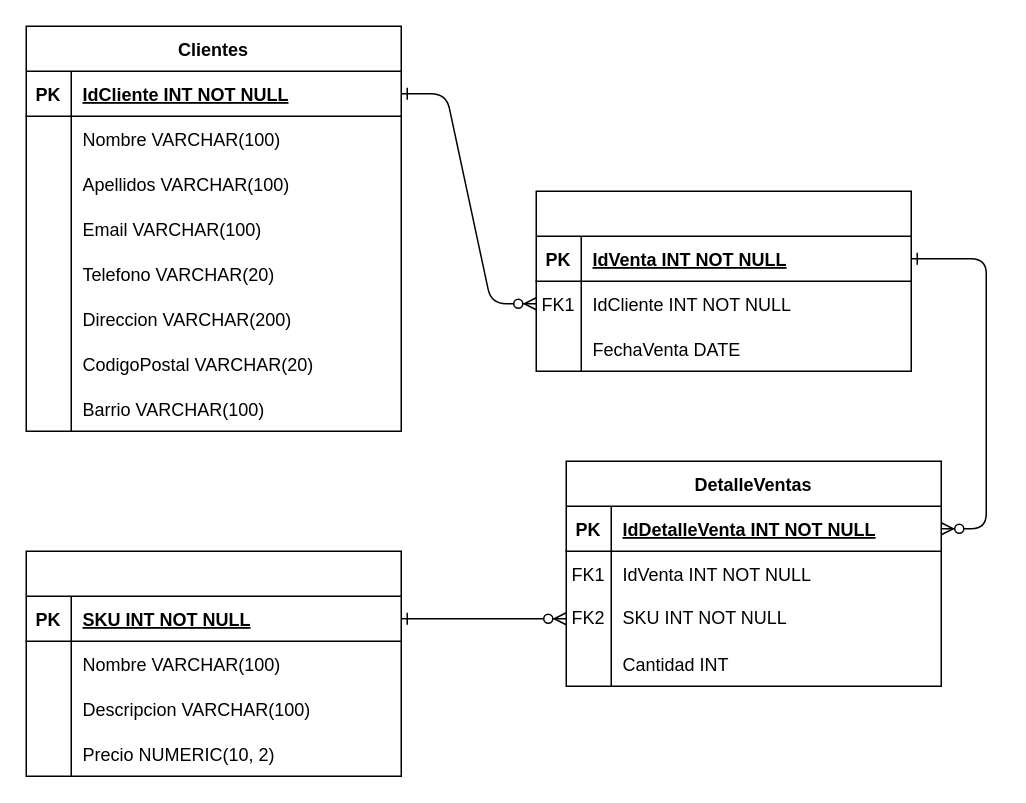
This 1026x803 diagram has some shape labels left out. Here are the shapes that lost their labels. From the top down, the box of each, then its label:
(535, 190, 911, 371): Ventas
(25, 550, 401, 776): Productos
